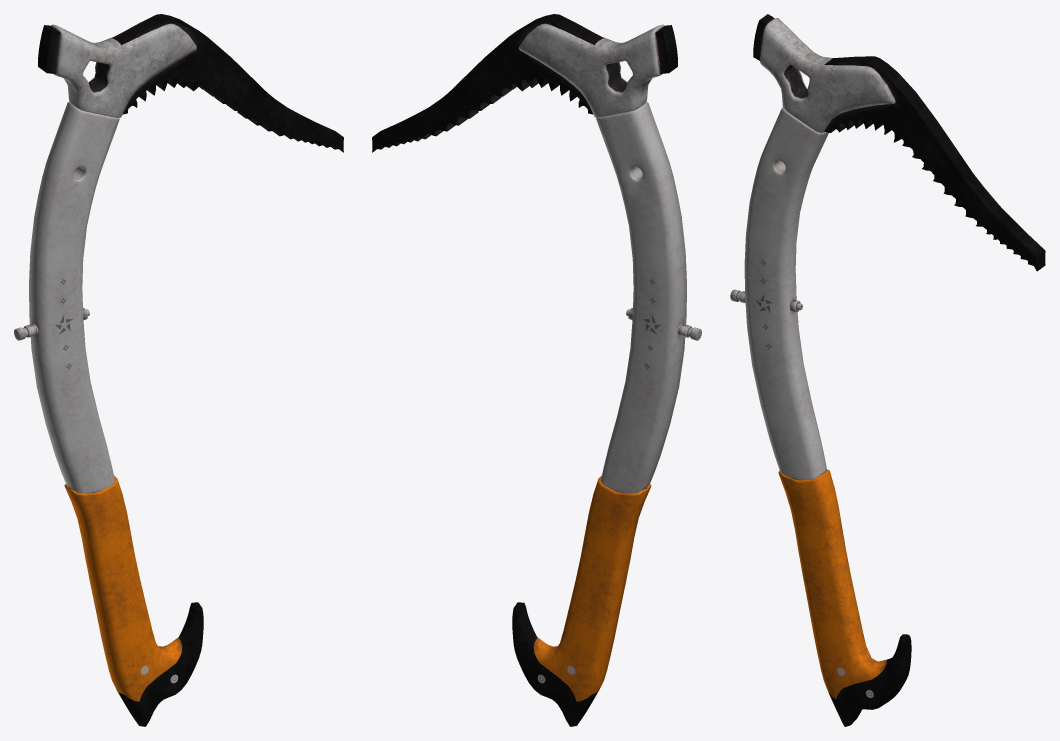
The model's file is uploads_files_2789062_Climbing+Axe.fbx.
3 renders of one model, left to right at view 1: azimuth 30°, elevation 25°; view 2: azimuth 150°, elevation 25°; view 3: azimuth 330°, elevation 25°, orthographic. The views are drawn at different scales.
Parts seen in each view (by area): view 1: Climbing Axe; view 2: Climbing Axe; view 3: Climbing Axe.
Part boxes in pixels (<box>): Climbing Axe: <box>14,14,343,726</box>; Climbing Axe: <box>372,14,701,726</box>; Climbing Axe: <box>730,14,1045,726</box>.
Size of the model in its own units: 23.76 by 50.56 by 2.06.
Materials: 1 (1 with a texture image).
